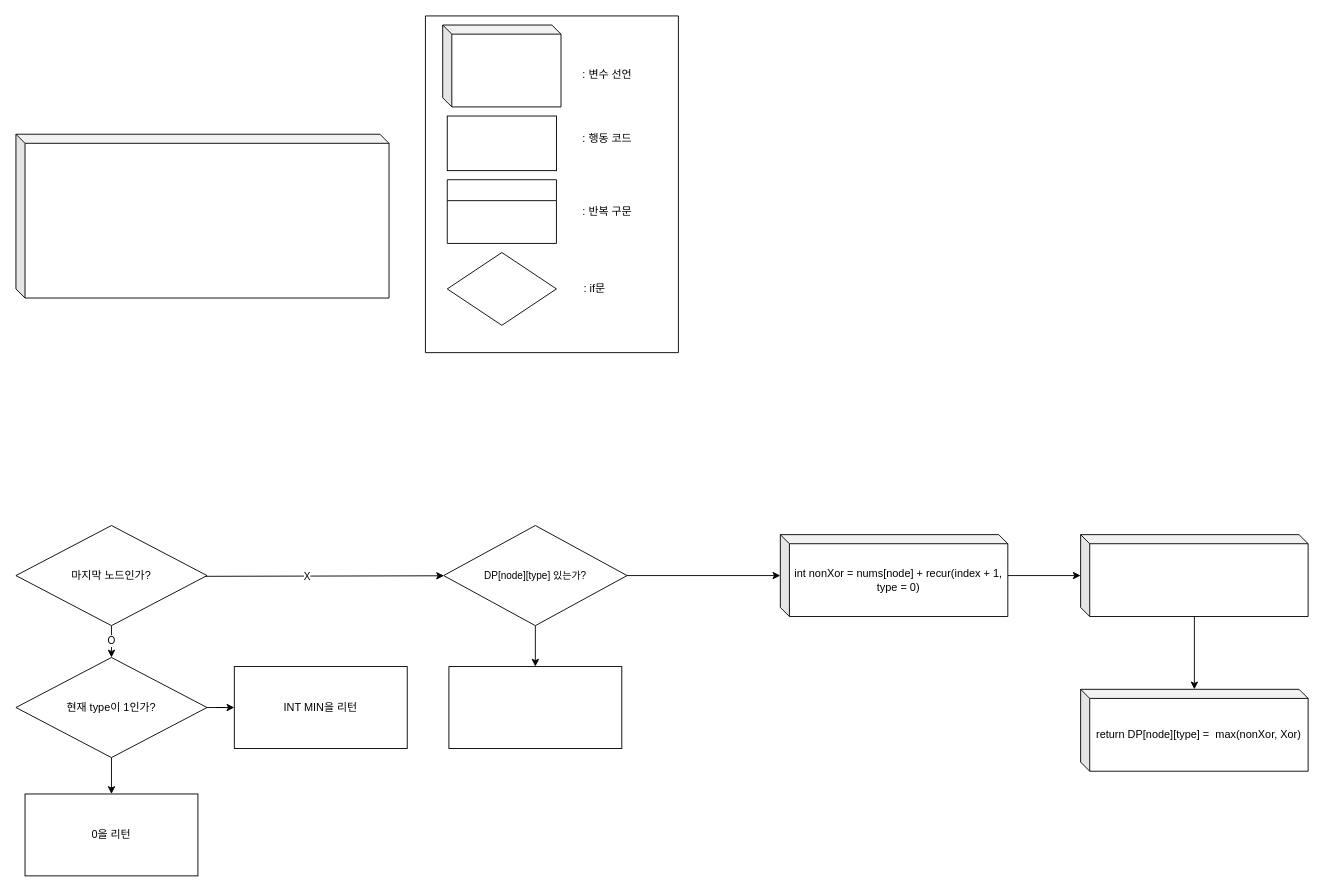
Image size: 1324x892. Some labels were removed from this diagram. The centre of each missing label's shape, as x and y in pixels:
DP[node][type]을 리턴: (535,707)
int Xor = nums[node] ^ k + recur(index + 1, type = 0): (1194,575)
vector<vector<int>> DP DP[x][y] = x번 노드가 상태가 y(0, 1)일 때 부터 마지막 노드까지의 최대값.: (202,215)
~ 동안: (501,211)
